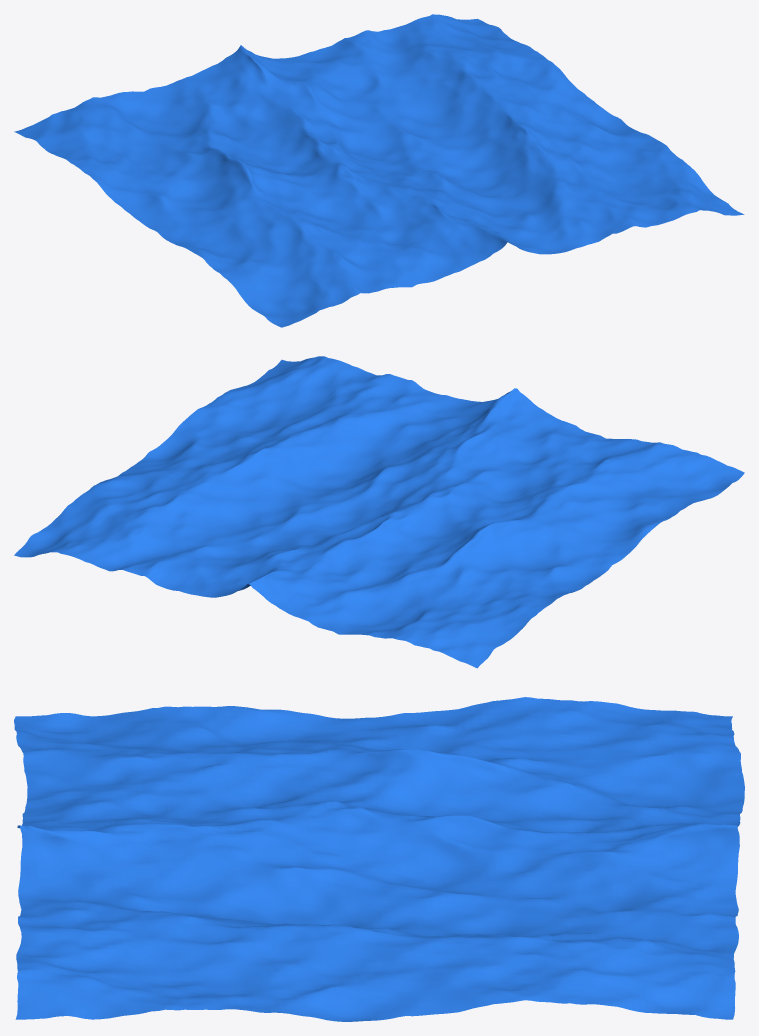
The picture shows the model from 3 angles, top to bottom: view 1: azimuth 30°, elevation 25°; view 2: azimuth 150°, elevation 25°; view 3: azimuth 270°, elevation 25°; orthographic projection. The views are drawn at different scales.
Visible parts, largest first — view 1: Plane; view 2: Plane; view 3: Plane.
Part boxes in pixels (x1,y1,x2,y2): Plane: [14, 14, 744, 327]; Plane: [14, 356, 744, 668]; Plane: [14, 697, 744, 1021].
Bounding box in the file's own units: 50.79 × 3.5 × 50.94.
